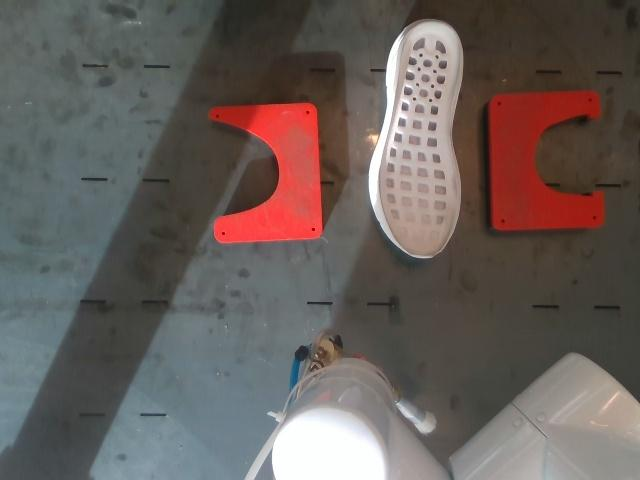shoes: (378, 23, 462, 258)
